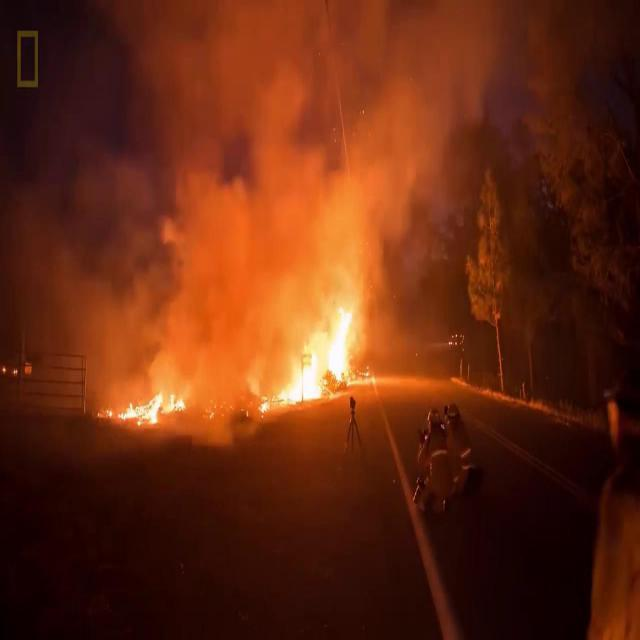Fire: (258, 308, 354, 418), (122, 390, 186, 432), (96, 407, 113, 419)
